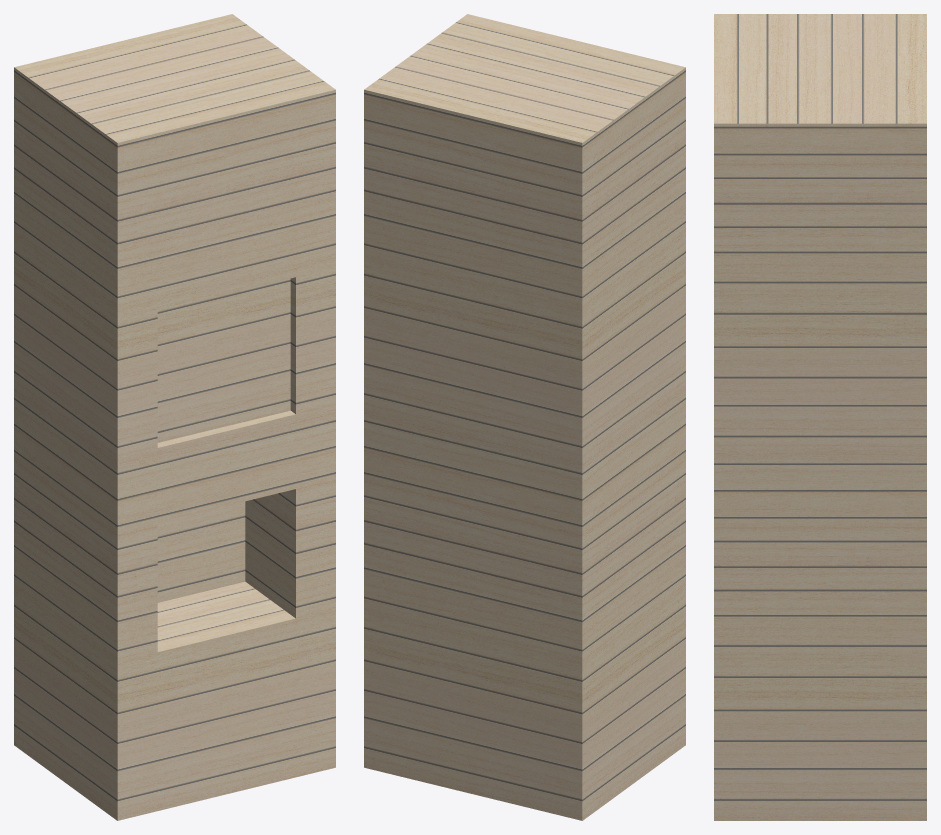
The model's file is Gallery_Pillar04.FBX.
3 views of the same model, side by side, from view 1: azimuth 30°, elevation 25°; view 2: azimuth 150°, elevation 25°; view 3: azimuth 270°, elevation 25° (orthographic). The views are drawn at different scales.
Visible parts, largest first — view 1: Gallery_Pillar04; view 2: Gallery_Pillar04; view 3: Gallery_Pillar04.
Boxes of the visible parts, x1,y1,x2,y2 form: Gallery_Pillar04: (14,14,335,820); Gallery_Pillar04: (364,14,685,820); Gallery_Pillar04: (714,14,926,820).
Bounding box in the file's own units: 59.06 × 48.43 × 175.
